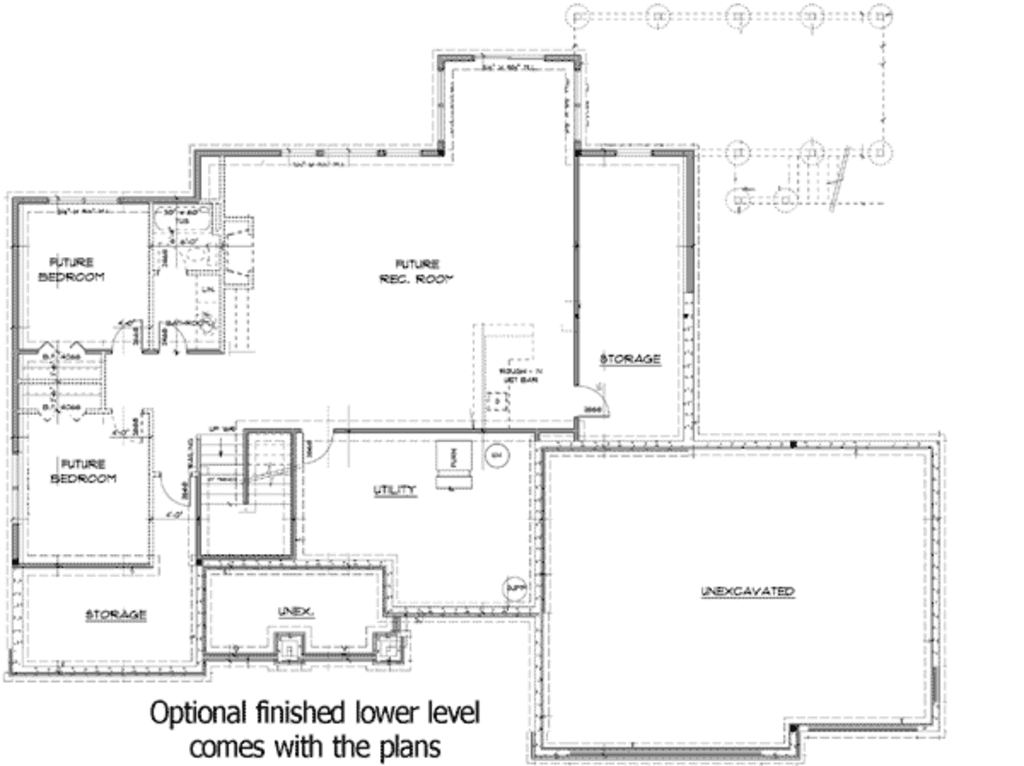door: (569, 379, 625, 427), (100, 312, 147, 358), (150, 317, 197, 362), (154, 467, 200, 510), (293, 427, 339, 468)
stairs: (195, 428, 299, 562)
window: (274, 140, 438, 163), (7, 442, 42, 526), (35, 191, 114, 213), (473, 48, 553, 65), (612, 143, 667, 167)
